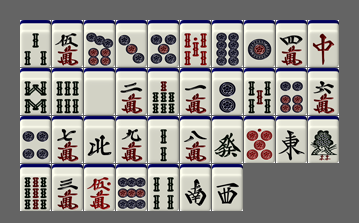0m: (84, 164, 115, 211)
0p: (244, 116, 275, 163)
0s: (180, 20, 211, 67)
1m: (180, 68, 211, 115)
1p: (244, 20, 275, 67)
1s: (308, 116, 339, 163)
1z: (276, 116, 307, 163)
2m: (116, 68, 147, 115)
2p: (212, 68, 243, 115)
2s: (148, 116, 179, 163)
2z: (180, 164, 211, 211)
3m: (52, 164, 83, 211)
3p: (116, 20, 147, 67)
3s: (20, 20, 51, 67)
3z: (212, 164, 243, 211)
4m: (276, 20, 307, 67)
4p: (20, 116, 51, 163)
4s: (148, 164, 179, 211)
4z: (84, 116, 115, 163)
5m: (52, 20, 83, 67)
5p: (148, 20, 179, 67)
5s: (244, 68, 275, 115)
5z: (84, 68, 115, 115)
6m: (308, 68, 339, 115)
6p: (276, 68, 307, 115)
6s: (52, 68, 83, 115)
6z: (212, 116, 243, 163)
7m: (52, 116, 83, 163)
7p: (84, 20, 115, 67)
7s: (148, 68, 179, 115)
7z: (308, 20, 339, 67)
8m: (180, 116, 211, 163)
8p: (212, 20, 243, 67)
8s: (20, 68, 51, 115)
9m: (116, 116, 147, 163)
9p: (116, 164, 147, 211)
9s: (20, 164, 51, 211)
